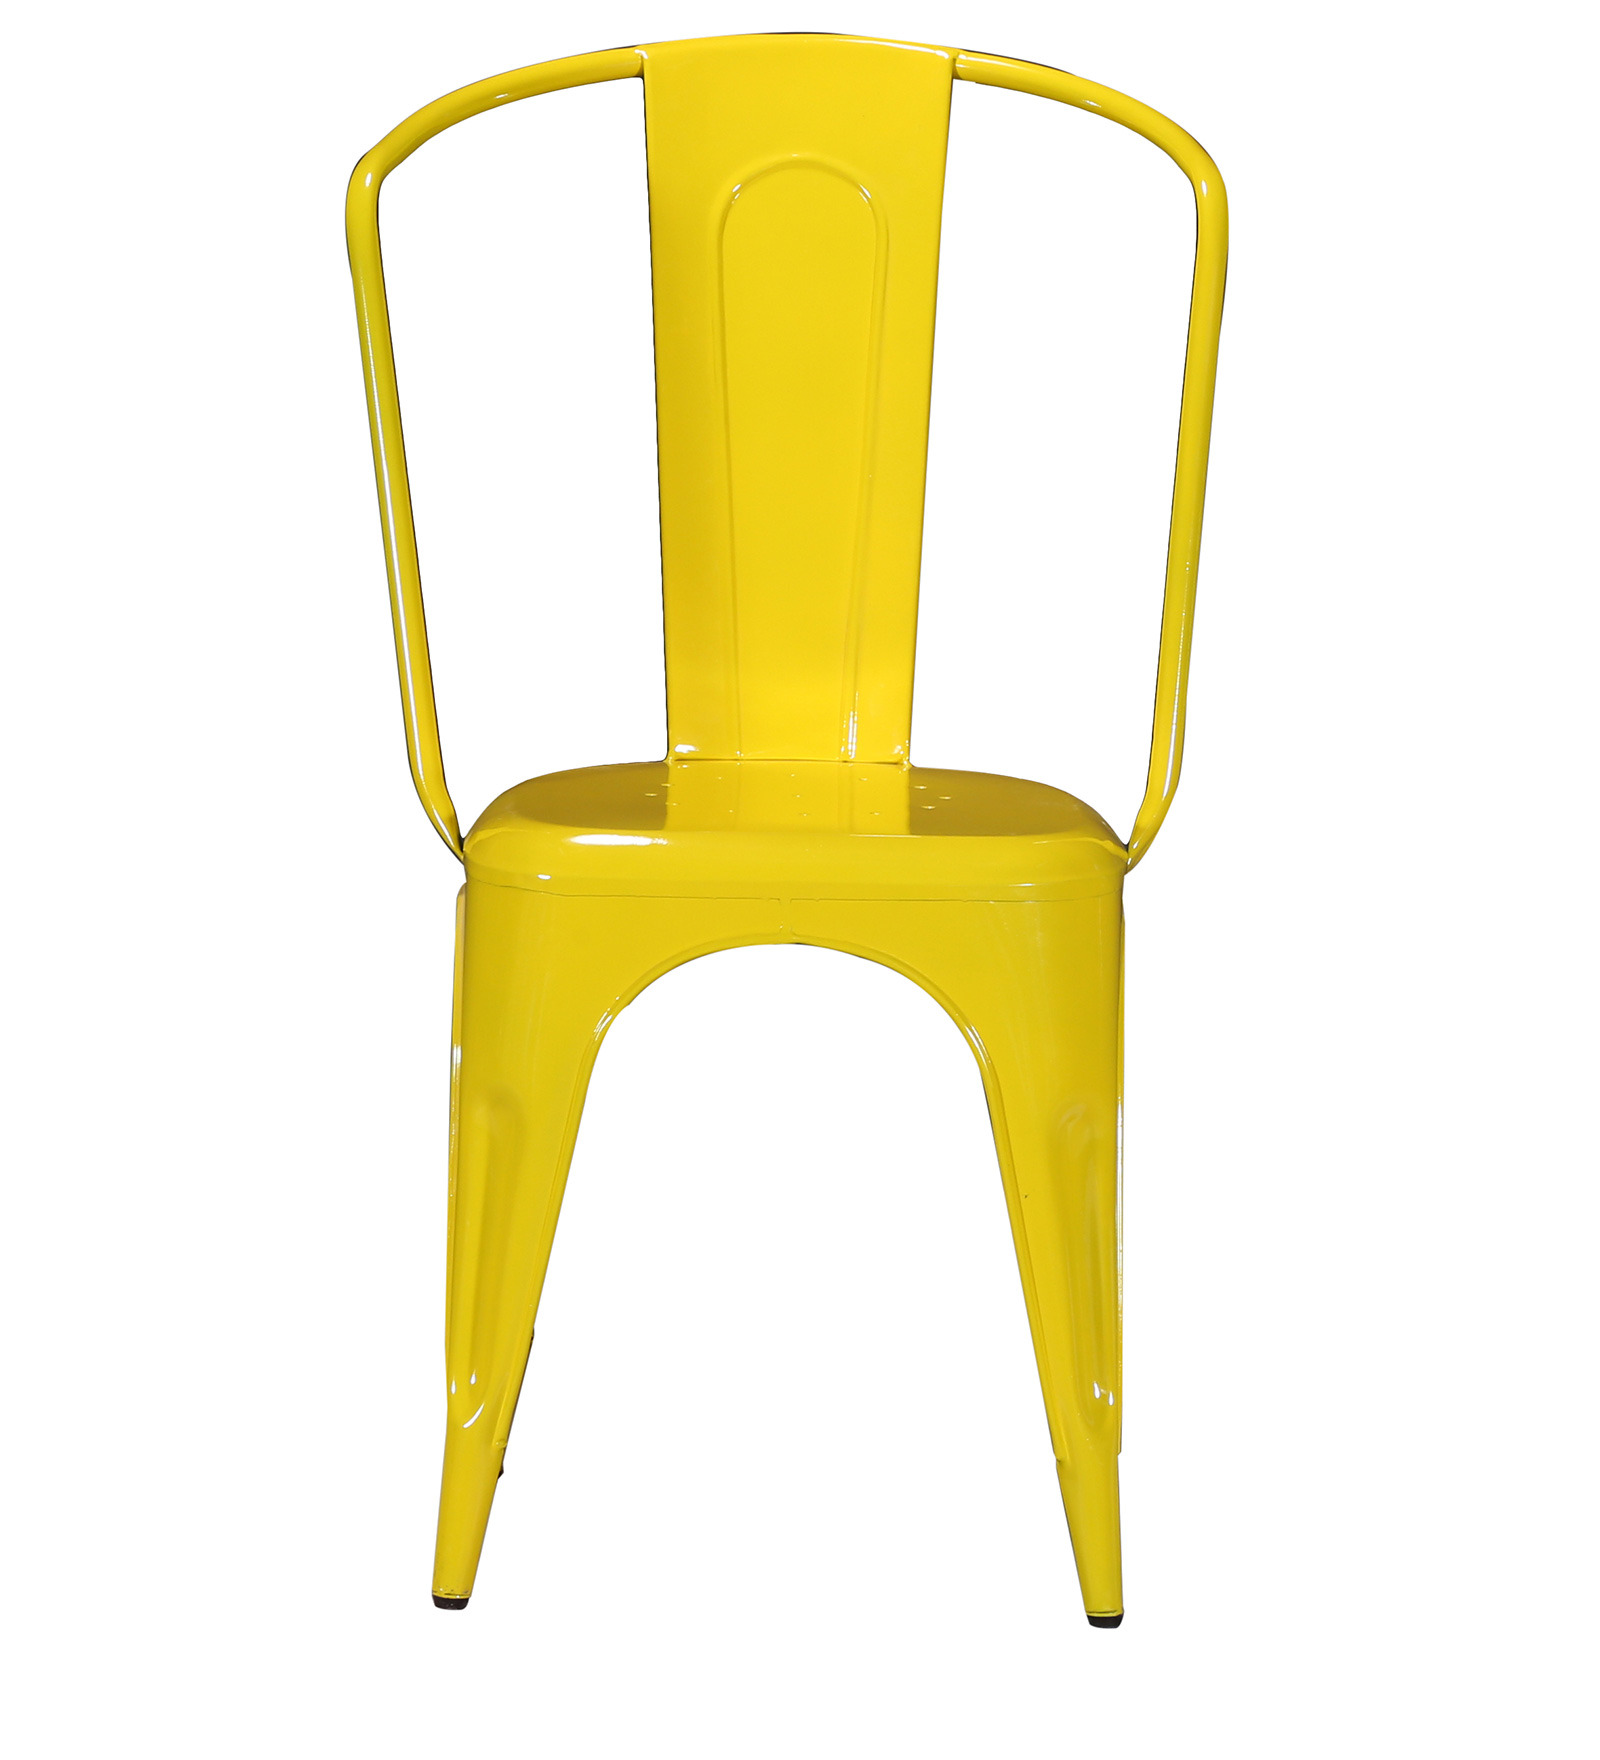Ekati Metal Chair in Yellow Color by Bohemiana: (323, 5, 1252, 1689)
